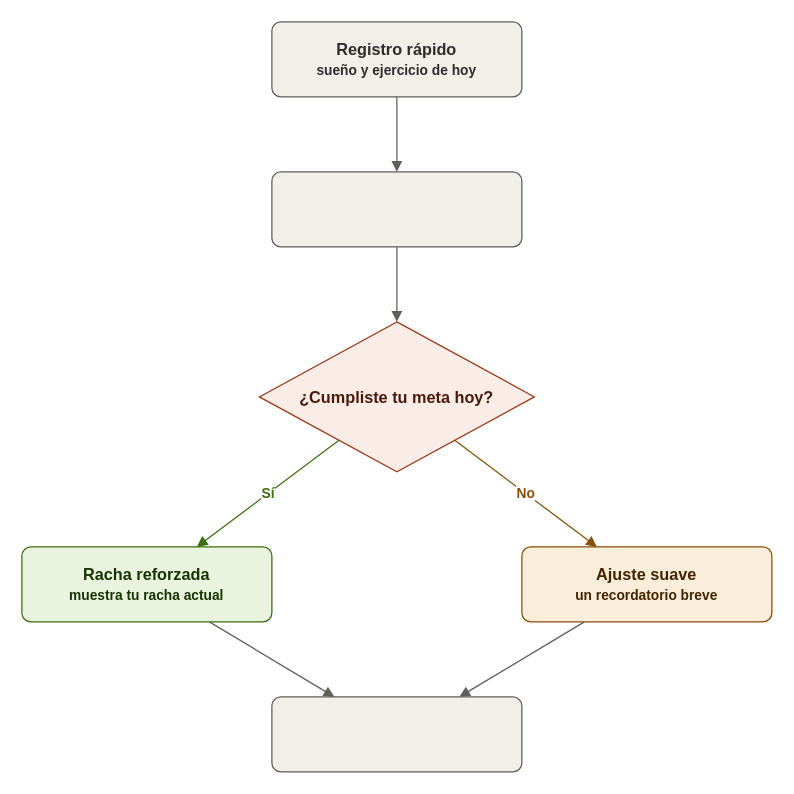
Image size: 794x794. Some labels were removed from this diagram. The shapes that lost their labels are listed below. From the top down, each one's box as (x1, y1, x2, y2) in pixels, then its label:
(271, 171, 522, 247): Progreso semanal cuántos días cumpliste
(271, 696, 522, 772): Cierre sin culpa solo seguimiento diario
